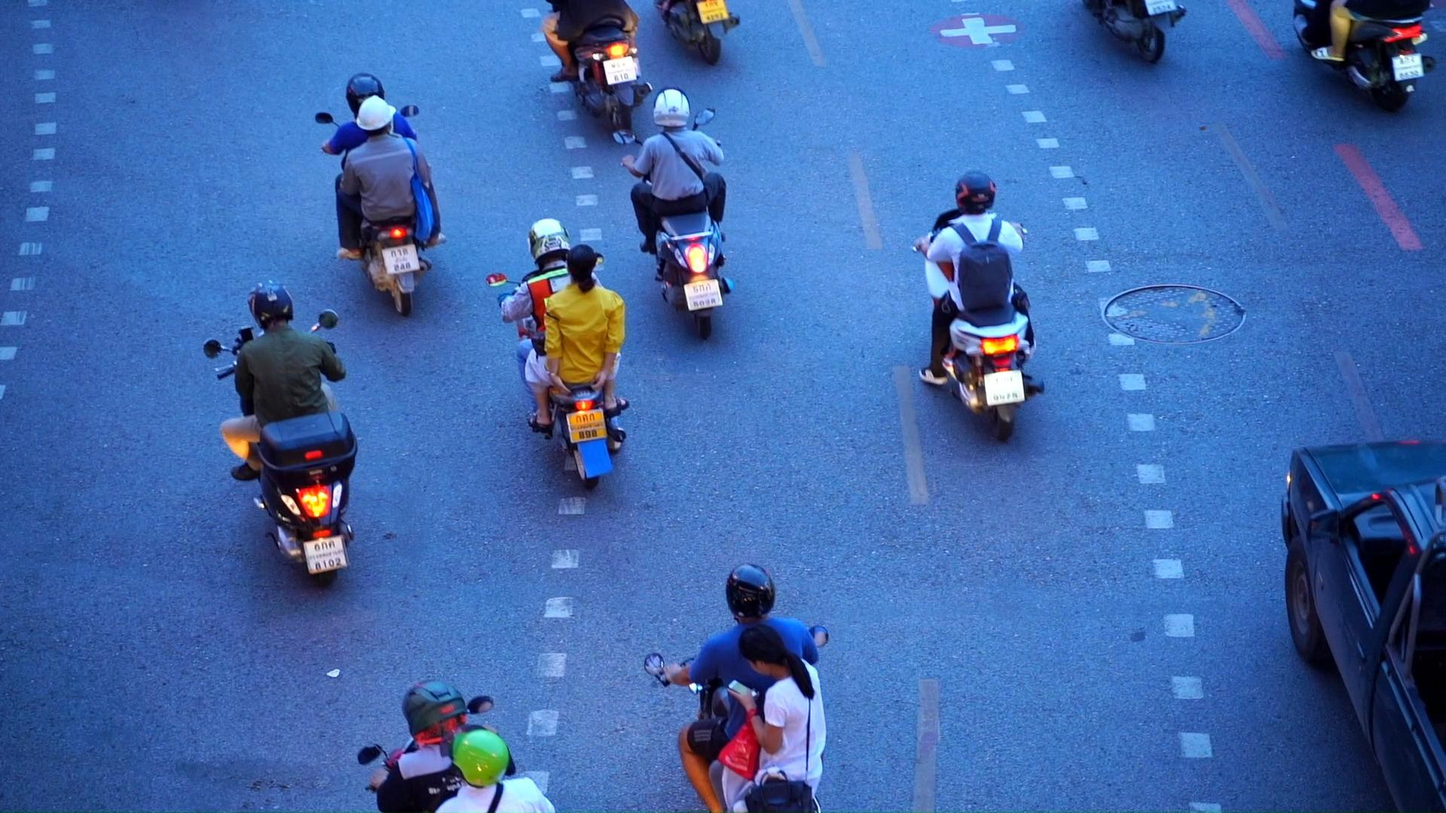driver: (203, 278, 358, 589), (644, 563, 830, 813), (485, 218, 630, 490), (911, 170, 1045, 442), (315, 72, 446, 316), (612, 85, 735, 339), (357, 678, 555, 813), (1292, 0, 1436, 113), (541, 0, 654, 129)
helmet: (440, 723, 510, 790), (401, 678, 468, 744), (725, 563, 775, 625), (246, 278, 293, 331), (527, 218, 571, 268), (955, 170, 996, 215), (346, 73, 385, 120), (357, 95, 397, 138), (653, 86, 691, 129)
no-helmet: (739, 624, 813, 681), (565, 244, 597, 294)
